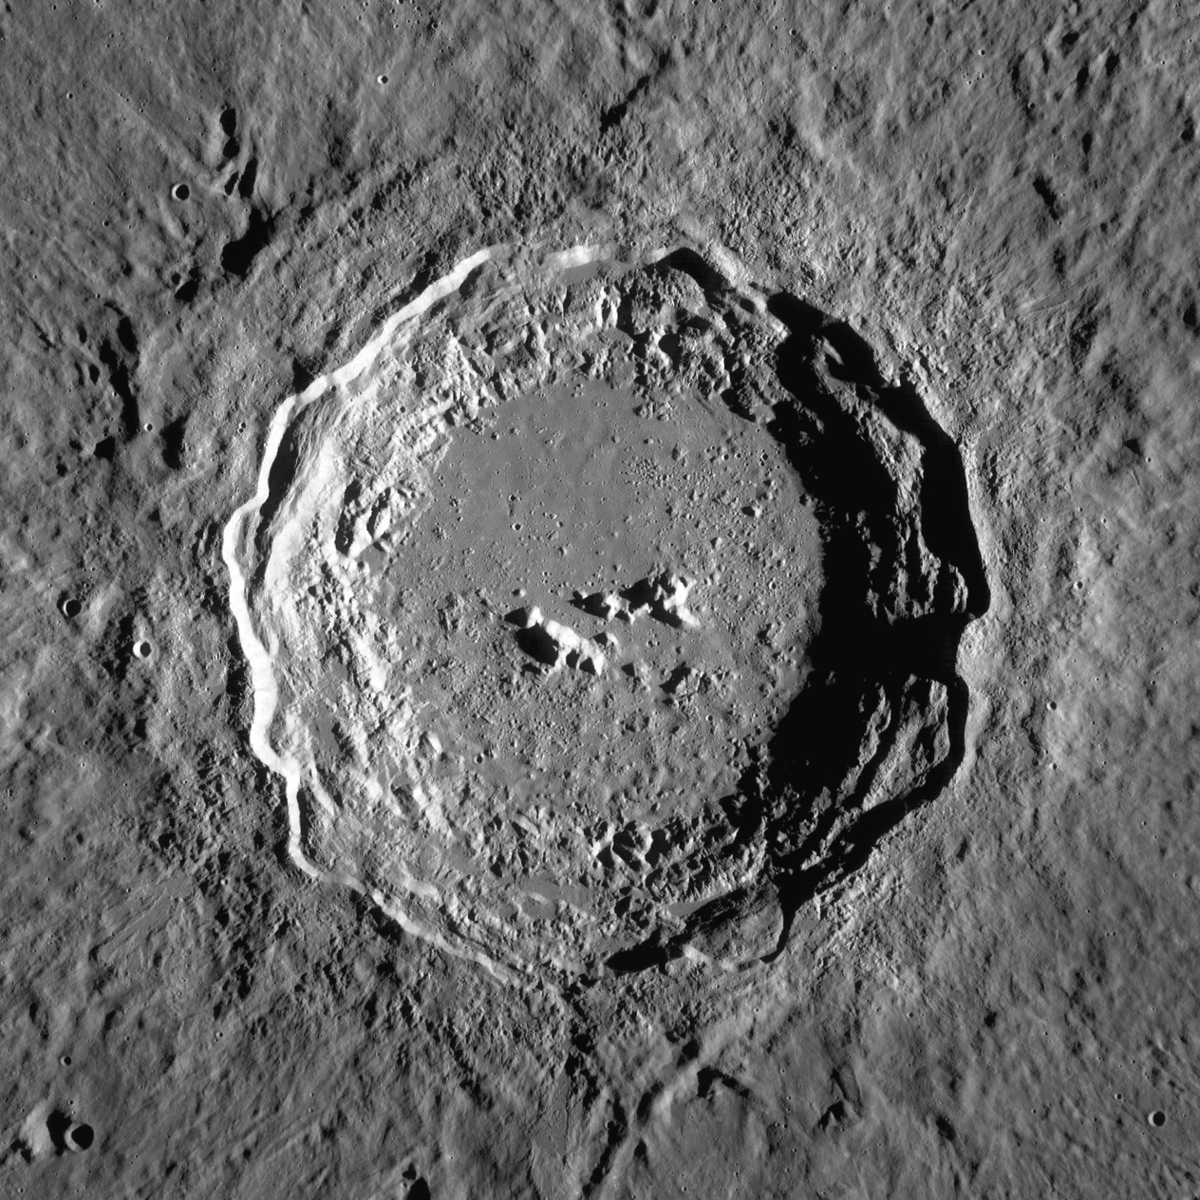crater: (85, 149, 1115, 1160), (37, 1082, 135, 1200), (144, 162, 226, 251), (355, 58, 414, 108)
